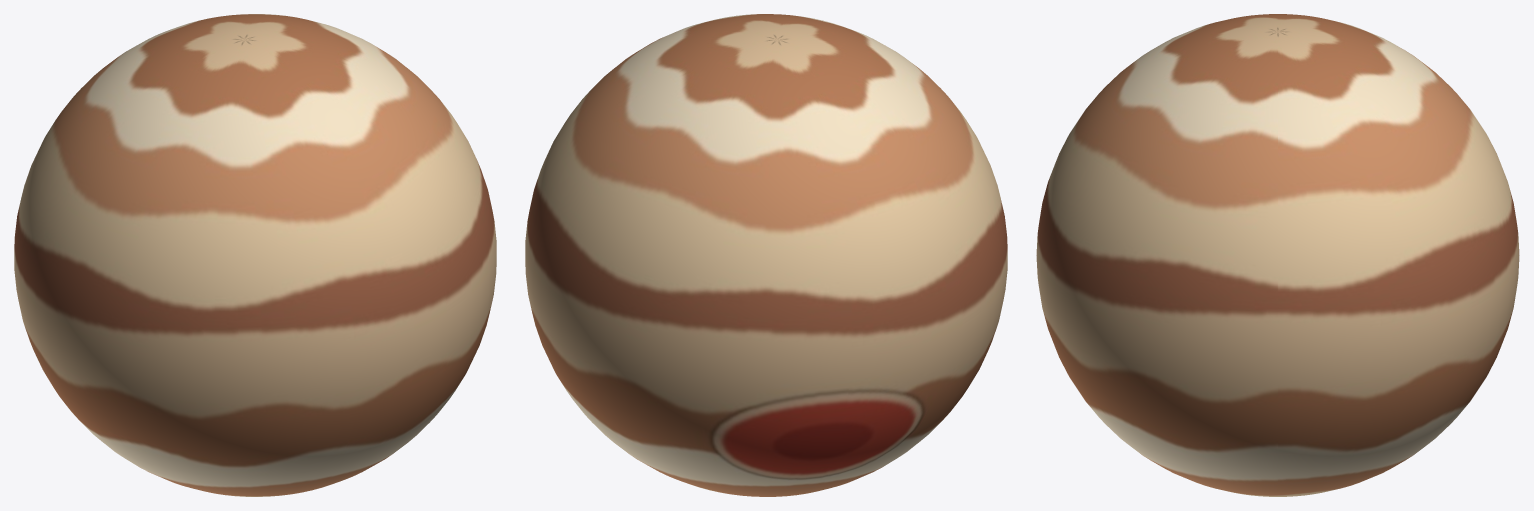
The model's file is jupiter.glb.
The picture shows the model from 3 angles, left to right: view 1: azimuth 30°, elevation 25°; view 2: azimuth 150°, elevation 25°; view 3: azimuth 270°, elevation 25°; orthographic projection.
Visible parts, largest first — view 1: Planet; view 2: Planet; view 3: Planet.
Part boxes in pixels (left/top/right/bottom): Planet: left=14, top=14, right=496, bottom=496; Planet: left=525, top=14, right=1007, bottom=496; Planet: left=1036, top=14, right=1519, bottom=496.
Bounding box in the file's own units: 0.999 × 0.999 × 1.
1 material, 1 textured.
